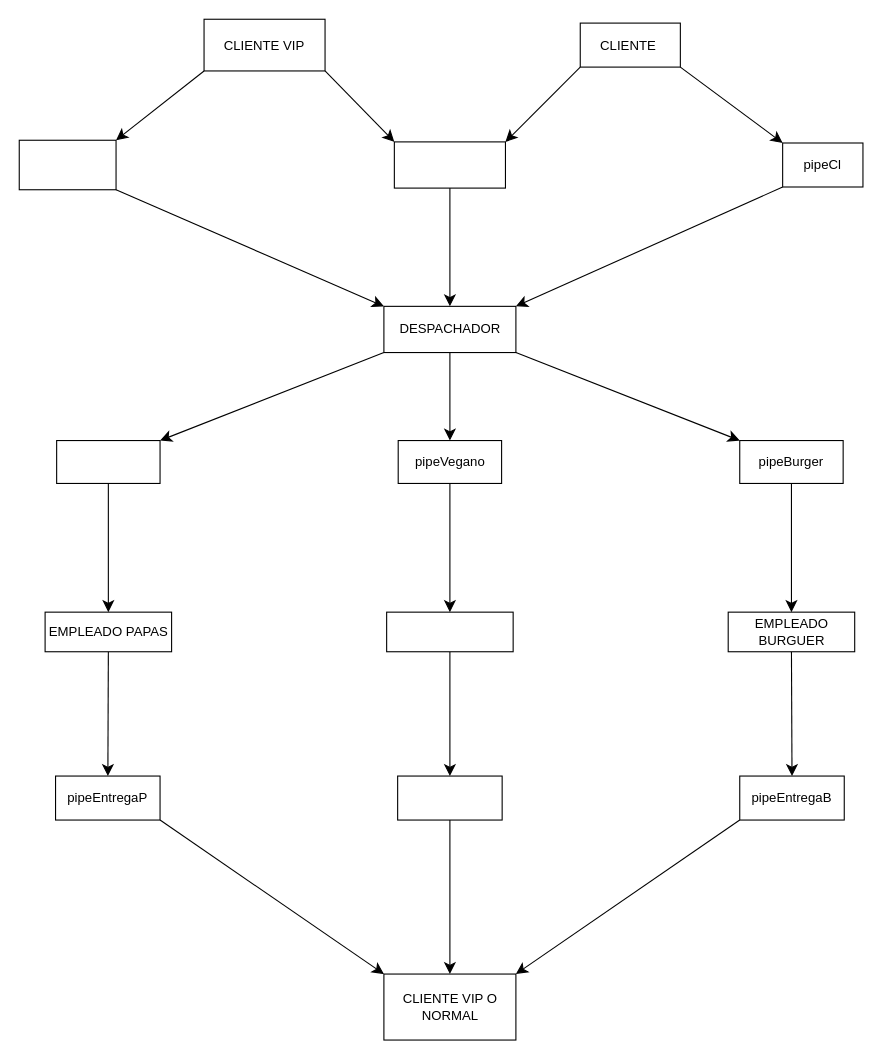
Some shapes in this 882 by 1059 pixel diagram are drawn without their labels. The shapes that lost their labels are listed below. From the top down, each one's centre as x and y in pixels, then its label:
At [67,164]: "pipeClVip".
At [449,164]: "pipeHayCl".
At [108,461]: "pipePapas".
At [449,631]: "EMPLEADO VEGANO".
At [449,797]: "pipeEntregaV".
